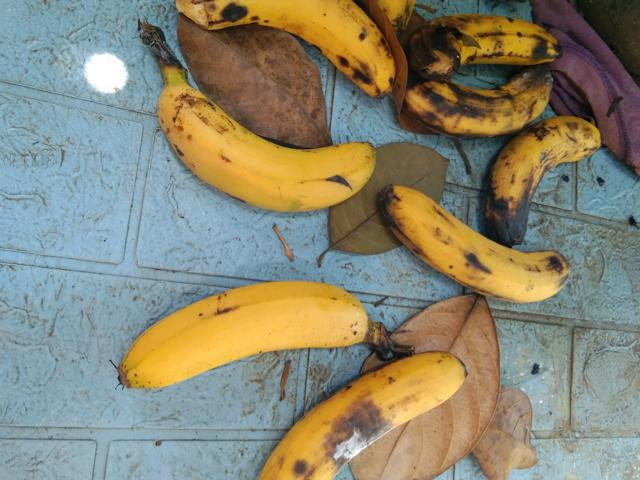freshripe: (81, 265, 382, 391)
ripe: (120, 72, 389, 229)
rotten: (253, 344, 498, 479), (183, 0, 410, 101), (473, 101, 618, 254), (384, 185, 569, 301), (399, 73, 582, 138), (404, 12, 567, 80)
